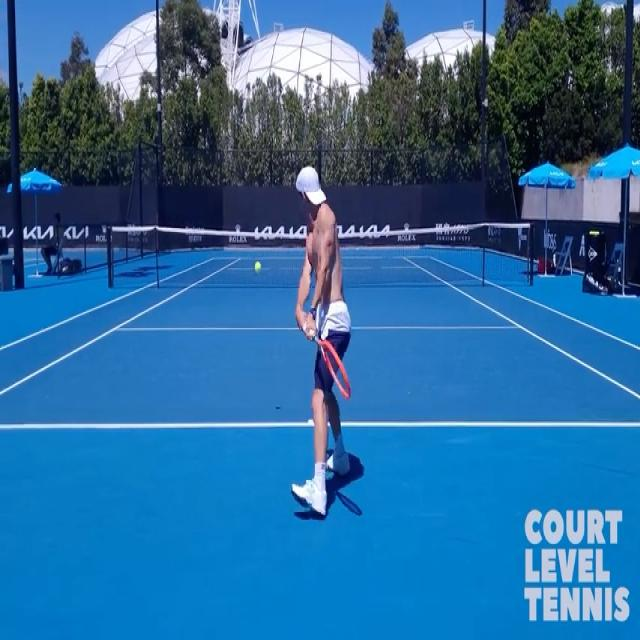backhand-ready: (291, 164, 356, 531)
